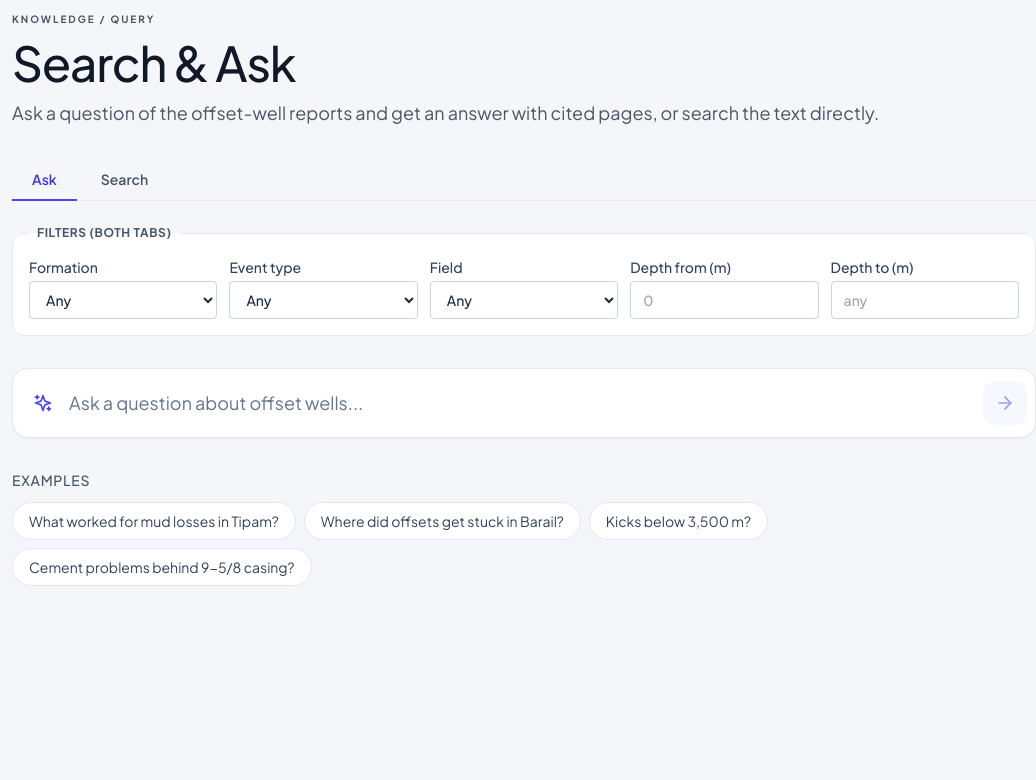
SearchPage › warns when the depth range is reversed and can clear the filters
The image size is (1036, 780).
Type "3000" into the field labelled "Depth from (m)" at (724, 300), box [630,281,819,319]
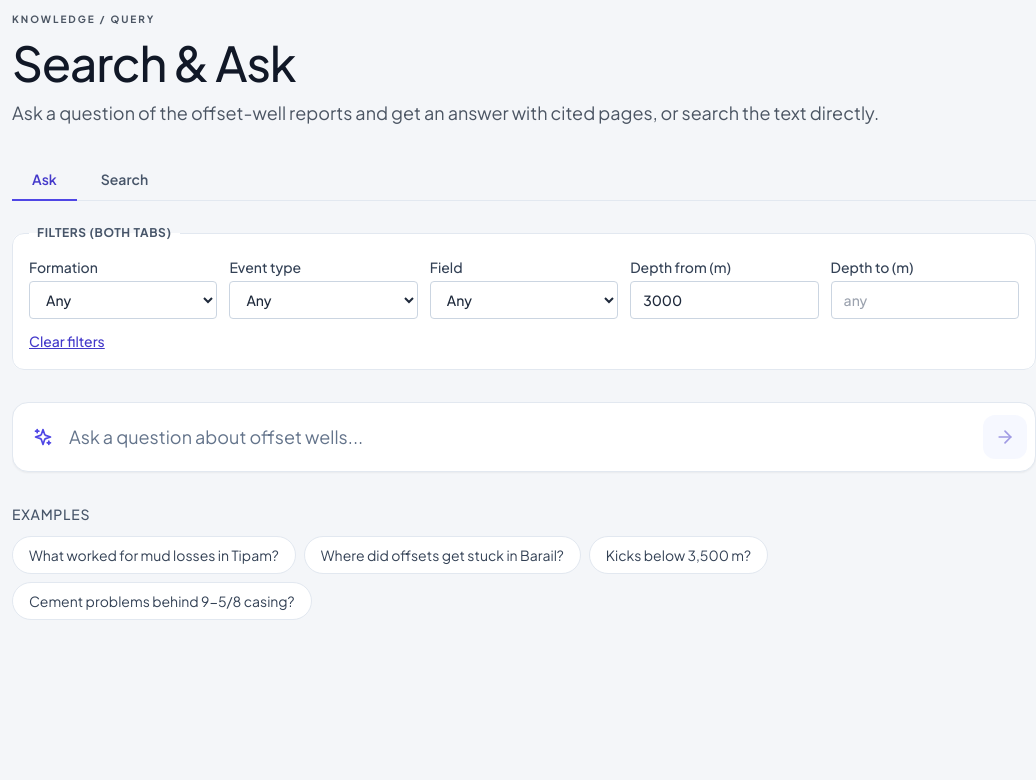
Type "1000" into the field labelled "Depth to (m)" at (925, 300), box [831,281,1019,319]
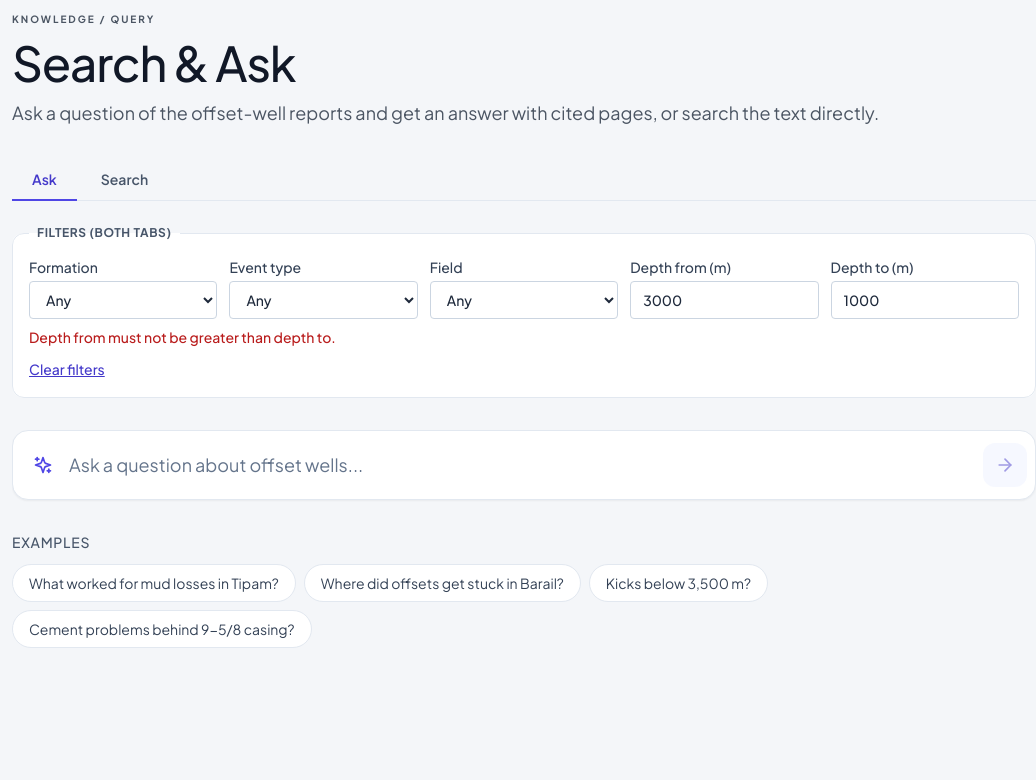
expect the message shows "must not be greater": met, box [29,328,336,346]
Click the button "Clear filters" at (67, 369), box [29,359,105,379]
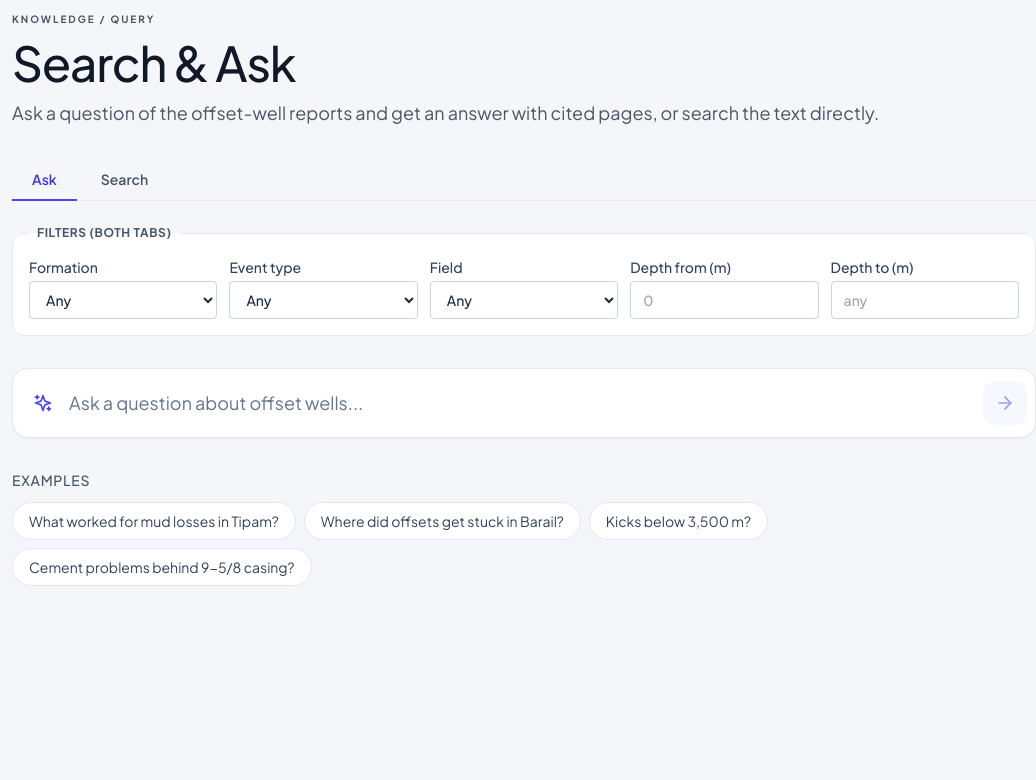
expect the field labelled "Depth from (m)" is empty: met, box [630,281,819,319]
expect the message "Depth from must not be greater than depth to." is gone: met
